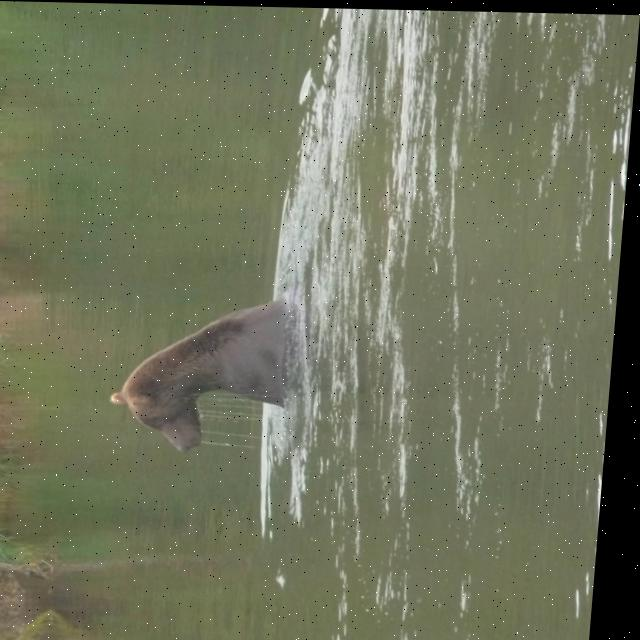bear face: (111, 303, 296, 451)
